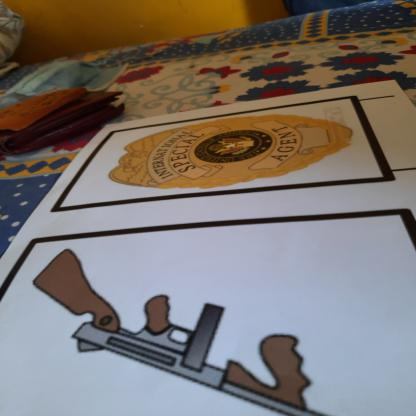Bootlegger: (29, 240, 373, 416)
G-man: (103, 113, 374, 196)
